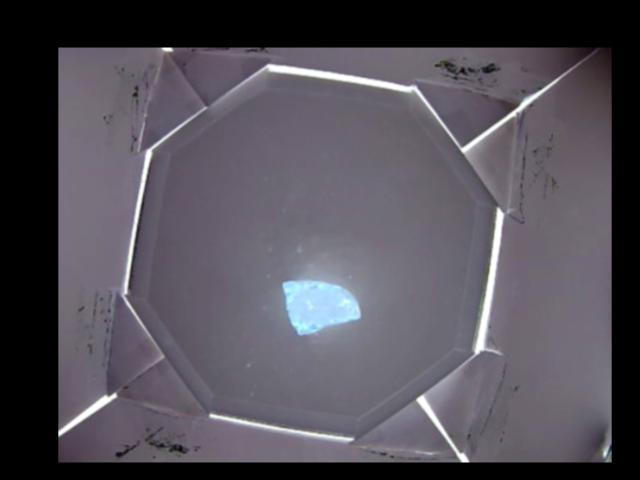Brisk: (282, 280, 360, 335)
